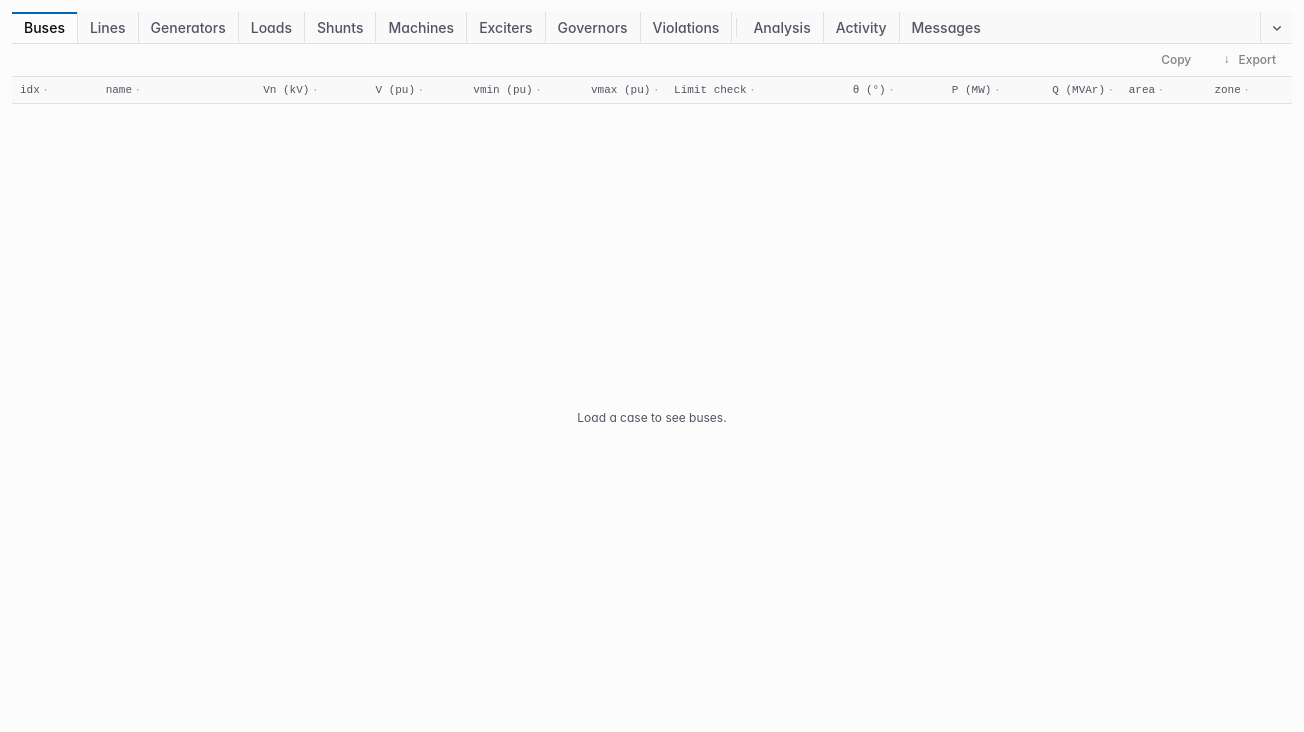
Scenario: <BottomDrawer /> › renders + selects the Activity tab
Click the tab with test id "bottom-drawer-tab-activity": (862, 28) [824,12,900,43]
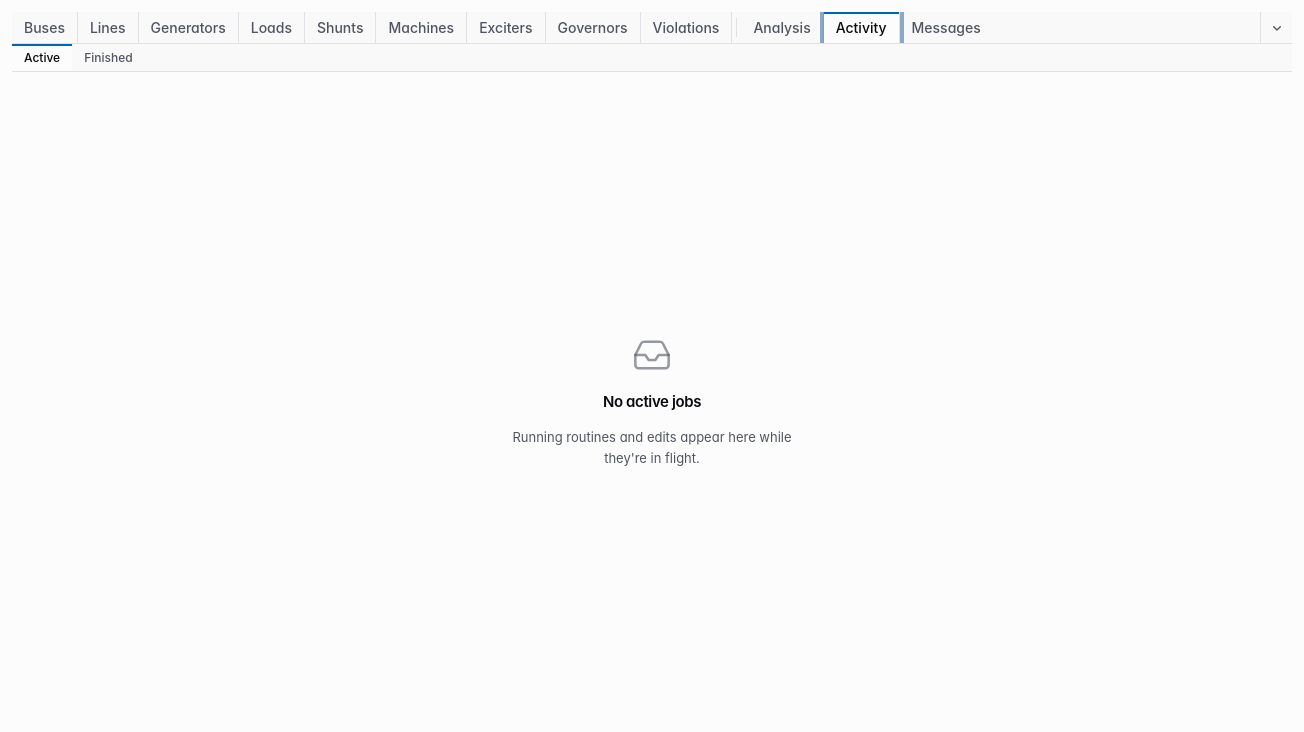
Check: the panel with test id "bottom-drawer-tab-content-activity" is shown
Check: the tab with test id "activity-panel-subtab-active" is shown, box [12,44,72,71]
